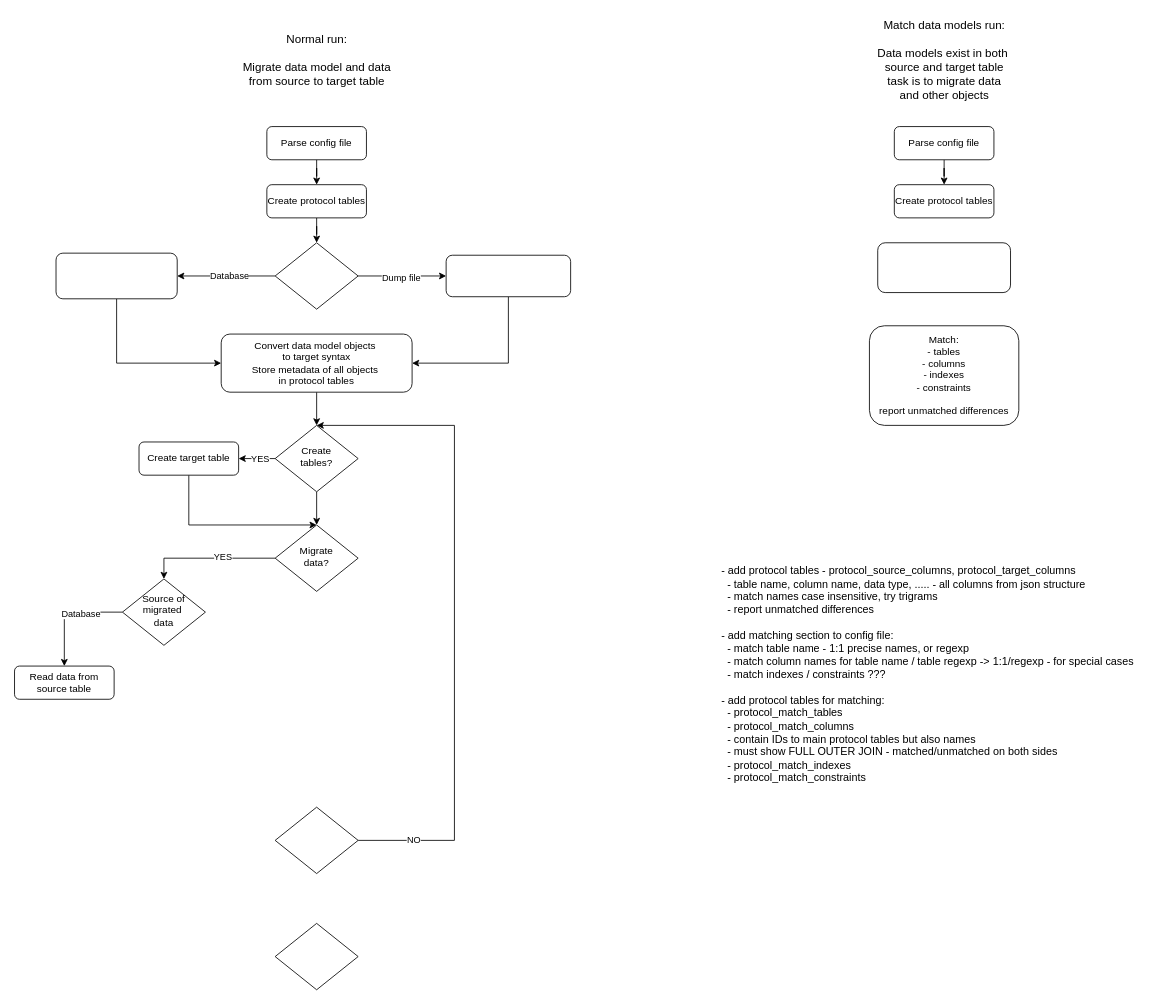
Some shapes in this 1166 by 1004 pixel diagram are drawn without their labels. Each missing label, with the box of its shape:
All tables migrated?: (274, 806, 358, 874)
Migrate indexes?: (274, 923, 358, 990)
Migration source: (274, 242, 358, 309)
Read all data model objects from source and target databases: (877, 242, 1011, 293)
Read metadata of all objects from source database: (55, 252, 177, 299)
Read SQL dump file, extract metadata of all objects: (445, 254, 571, 297)
